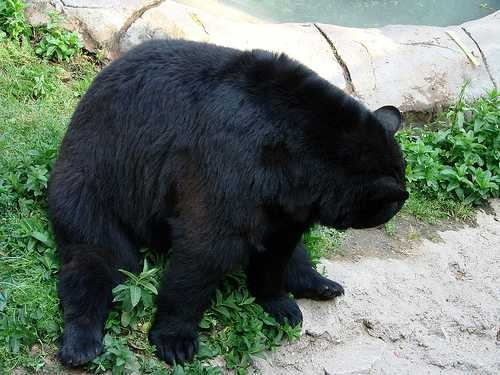bear: (301, 103, 429, 231)
